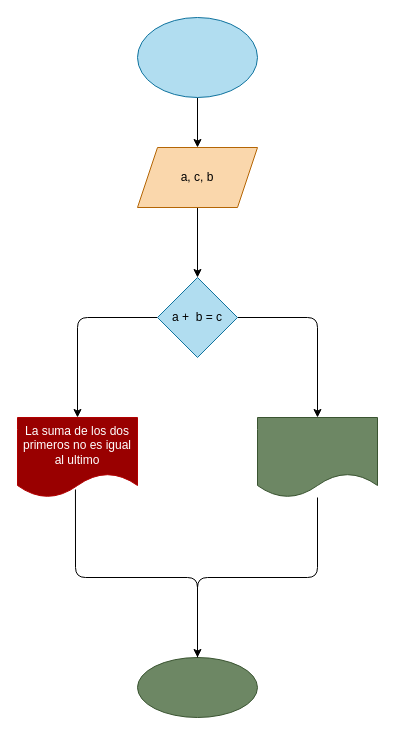
This 395x735 diagram has some shape labels left out. Each missing label, with the centre of its shape:
Inicio: the point at 197,57
si cumple: the point at 317,457
